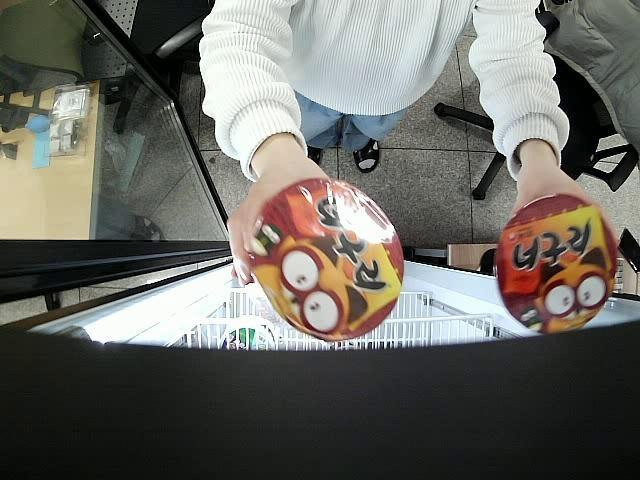05_nuguri_L: (255, 180, 404, 340), (495, 192, 617, 336)
